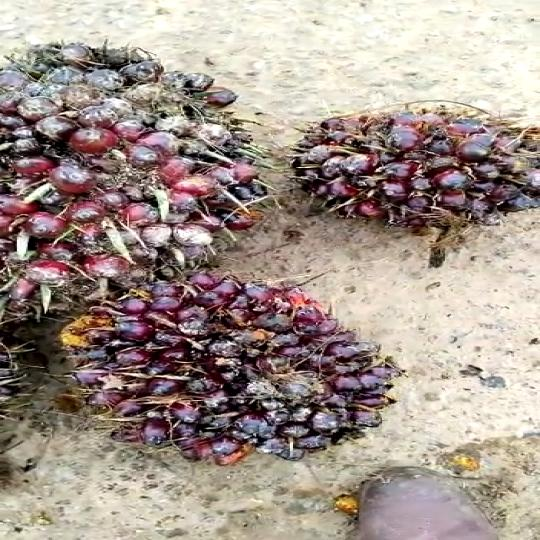kurang masak: (0, 48, 285, 319), (52, 276, 421, 475), (247, 89, 540, 234)
